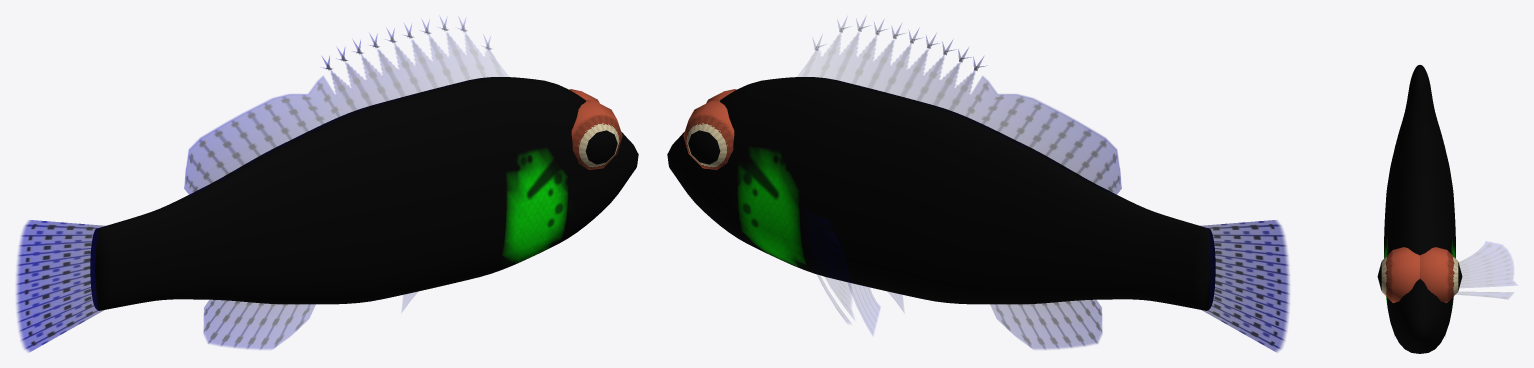
File: hawkfish.glb
3 views of the same model, side by side, from view 1: azimuth 30°, elevation 25°; view 2: azimuth 150°, elevation 25°; view 3: azimuth 270°, elevation 25° (orthographic). The views are drawn at different scales.
Visible parts, largest first — view 1: Body, FinDorsal, FinCaudal, FinAnal, EyeR; view 2: Body, FinDorsal, FinCaudal, FinAnal, EyeL, FinPectoralL, FinPelvicL; view 3: Body, FinPectoralL, EyeL, EyeR.
Boxes of the visible parts, bbox=[...] form: Body: bbox=[90, 77, 638, 310]; FinDorsal: bbox=[184, 17, 503, 195]; FinCaudal: bbox=[16, 220, 106, 352]; FinAnal: bbox=[203, 300, 315, 349]; EyeR: bbox=[571, 99, 622, 170]; Body: bbox=[667, 77, 1215, 310]; FinDorsal: bbox=[802, 17, 1121, 195]; FinCaudal: bbox=[1199, 220, 1289, 352]; FinAnal: bbox=[990, 300, 1102, 349]; EyeL: bbox=[683, 99, 734, 170]; FinPectoralL: bbox=[802, 203, 852, 322]; FinPelvicL: bbox=[849, 282, 879, 334]; Body: bbox=[1384, 65, 1455, 353]; FinPectoralL: bbox=[1457, 242, 1515, 298]; EyeL: bbox=[1420, 247, 1462, 302]; EyeR: bbox=[1377, 247, 1419, 302].
Size of the model in its own units: 1 by 0.4726 by 0.3319.
4 materials, 3 textured.
